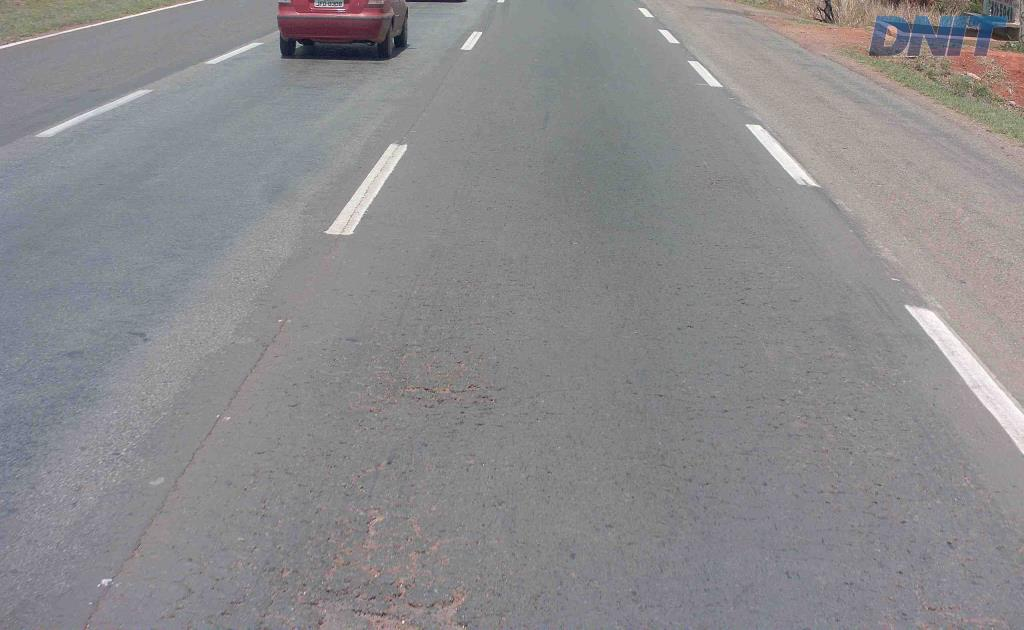crack: (311, 579, 385, 602)
pothole: (302, 582, 476, 628)
